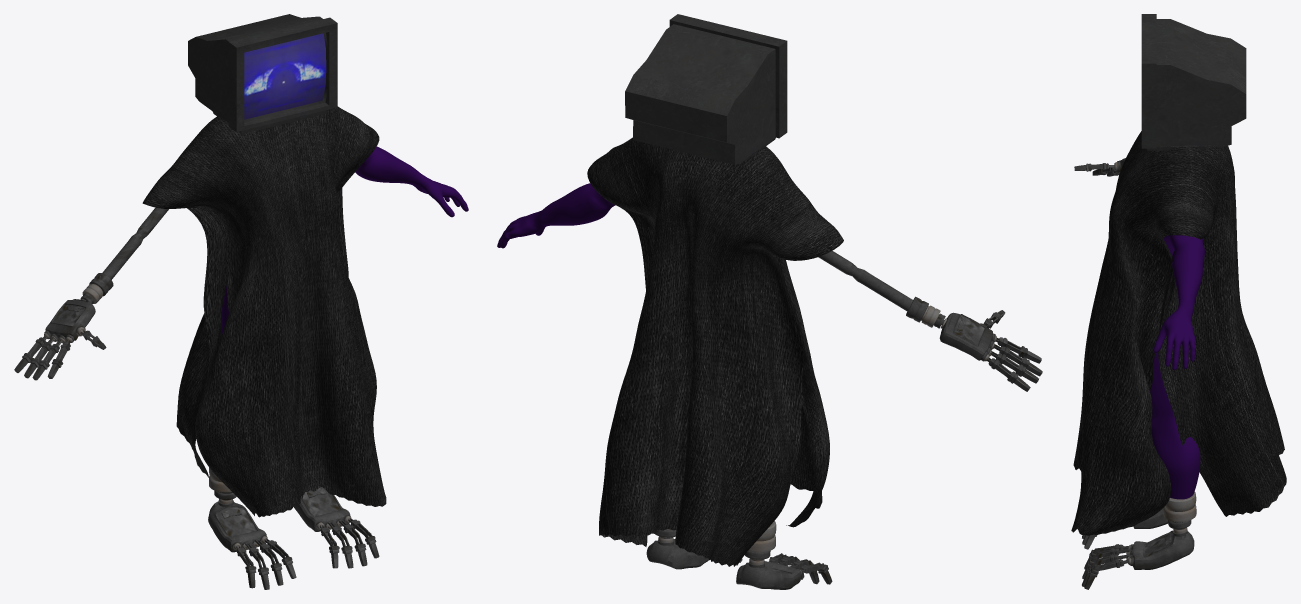
File: doctor_sawyer_poppy_playtime_4.glb
3 renders of one model, left to right at view 1: azimuth 30°, elevation 25°; view 2: azimuth 150°, elevation 25°; view 3: azimuth 270°, elevation 25°, orthographic. The views are drawn at different scales.
Visible parts, largest first — view 1: Plano, Cubo.001, Cubo.011, Cubo, Body, Cubo.004, Cubo.006, Cilindro.011, Cubo.002, Cubo.003, Cubo.009; view 2: Plano, Cubo.001, Body, Cubo, Cubo.006, Cilindro.011, Cubo.009; view 3: Plano, Cubo.001, Body, Cubo, Cilindro, Cubo.004, Cubo.003, Cubo.002.
Boxes of the visible parts, <box> form: Plano: <box>142,106,386,517</box>; Cubo.001: <box>188,14,337,134</box>; Cubo.011: <box>244,33,326,119</box>; Cubo: <box>208,487,350,552</box>; Body: <box>221,146,468,337</box>; Cubo.004: <box>236,518,379,588</box>; Cubo.006: <box>45,299,95,340</box>; Cilindro.011: <box>102,207,168,279</box>; Cubo.002: <box>245,519,367,589</box>; Cubo.003: <box>255,521,353,585</box>; Cubo.009: <box>14,336,70,378</box>; Plano: <box>587,137,843,566</box>; Cubo.001: <box>625,14,787,164</box>; Body: <box>497,183,615,248</box>; Cubo: <box>646,539,800,589</box>; Cubo.006: <box>939,312,992,360</box>; Cilindro.011: <box>818,250,913,311</box>; Cubo.009: <box>987,337,1041,391</box>; Plano: <box>1071,131,1286,535</box>; Cubo.001: <box>1141,14,1246,150</box>; Body: <box>1150,235,1204,499</box>; Cubo: <box>1130,508,1194,569</box>; Cilindro: <box>1163,492,1196,522</box>; Cubo.004: <box>1084,534,1128,589</box>; Cubo.003: <box>1082,535,1130,579</box>; Cubo.002: <box>1082,535,1129,586</box>.
Size of the model in its own units: 28.95 by 30.71 by 11.43.
Materials: 8 (7 with a texture image).
